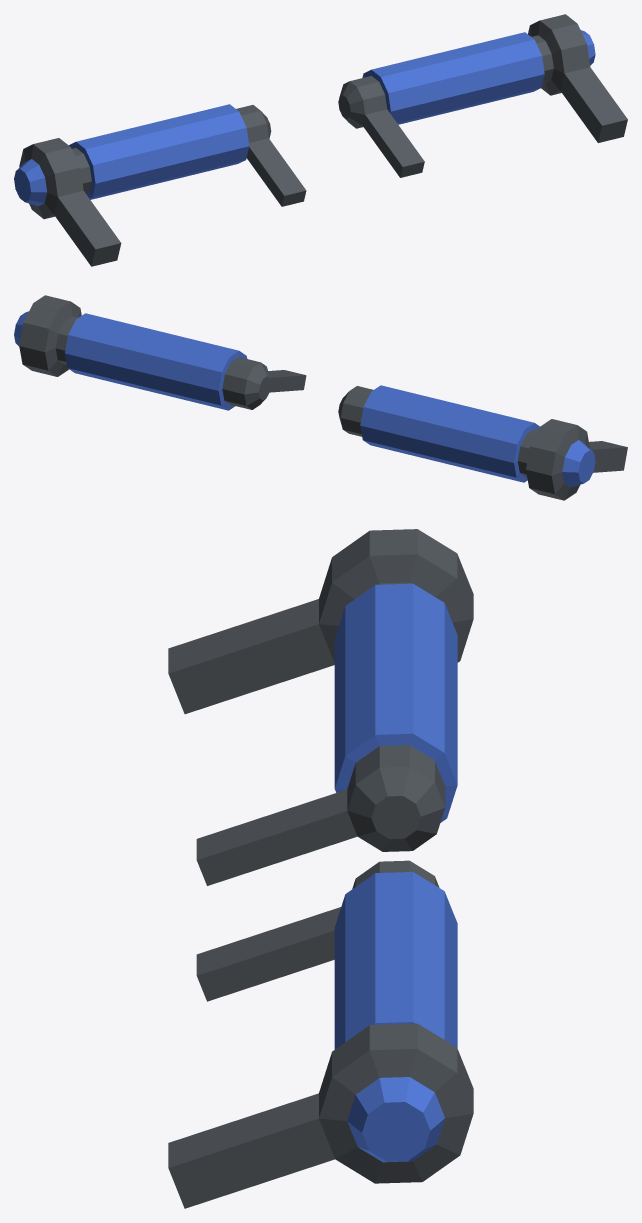
The model's file is Personal_Vehicle_01_Handlebars_Blue.fbx.
3 renders of one model, top to bottom at view 1: azimuth 30°, elevation 25°; view 2: azimuth 150°, elevation 25°; view 3: azimuth 270°, elevation 25°, orthographic. The views are drawn at different scales.
Visible parts, largest first — view 1: Personal_Vehicle_01_Handlebars_Blue; view 2: Personal_Vehicle_01_Handlebars_Blue; view 3: Personal_Vehicle_01_Handlebars_Blue.
Part boxes in pixels (x1=…): Personal_Vehicle_01_Handlebars_Blue: x1=14, y1=14, x2=627, y2=266; Personal_Vehicle_01_Handlebars_Blue: x1=14, y1=295, x2=627, y2=500; Personal_Vehicle_01_Handlebars_Blue: x1=168, y1=529, x2=473, y2=1208.
Bounding box in the file's own units: 78.64 × 10.66 × 18.41.
Materials: 1 (1 with a texture image).
